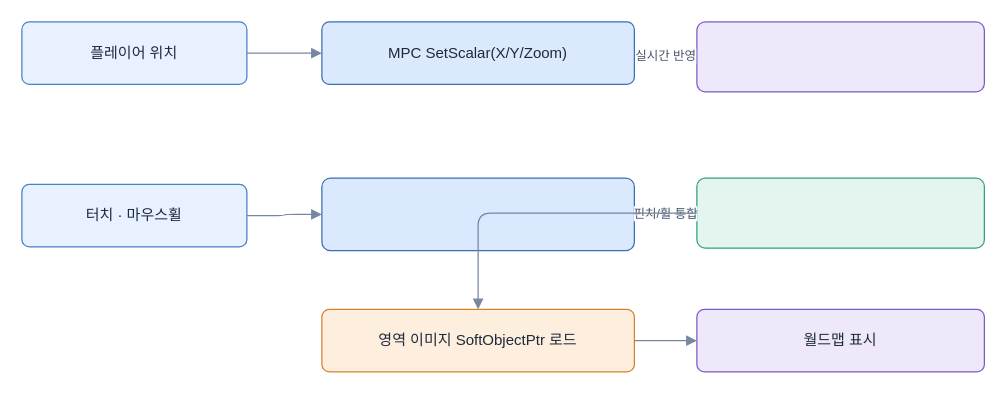
Image size: 1006x394. Some labels were removed from this diagram. The shapes that lost their labels are listed below. From the top down, each one's centre as x and y in pixels, then its label:
[840,56]: 미니맵 머티리얼 위치·퀘스트 GPU 표시
[477,214]: FSolWidgetInputProcessor Slate InputPreProcessor
[840,212]: Zoom / Drag 경계 제한
